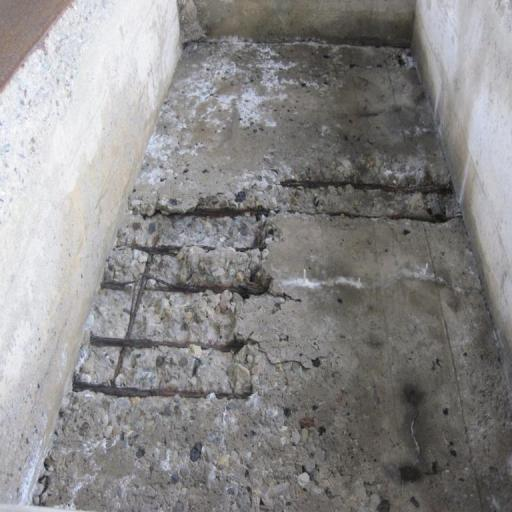spalling: (72, 165, 451, 411)
